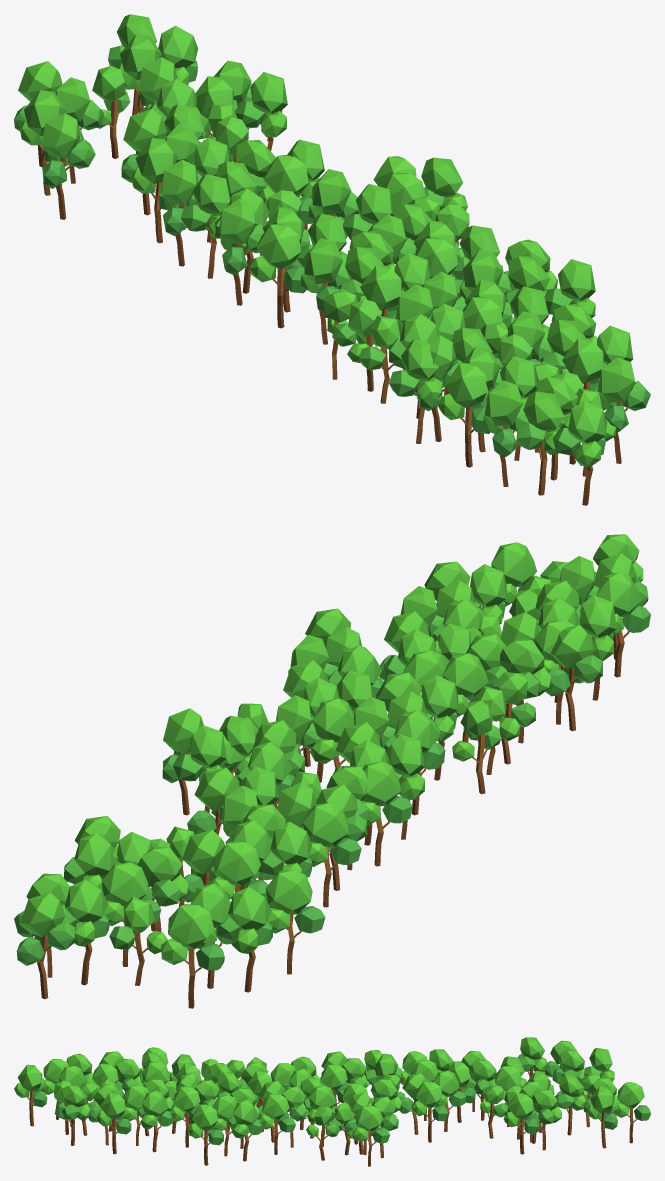
Rendered from SM_Wood.fbx.
3 views of the same model, one above another, from view 1: azimuth 30°, elevation 25°; view 2: azimuth 150°, elevation 25°; view 3: azimuth 270°, elevation 25° (orthographic). The views are drawn at different scales.
Parts seen in each view (by area): view 1: SM_Wood; view 2: SM_Wood; view 3: SM_Wood.
Part boxes in pixels (x1,y1,x2,y2): SM_Wood: [14, 14, 650, 505]; SM_Wood: [14, 534, 650, 1008]; SM_Wood: [14, 1037, 650, 1166].
Bounding box in the file's own units: 14.56 × 47.93 × 4.94.
